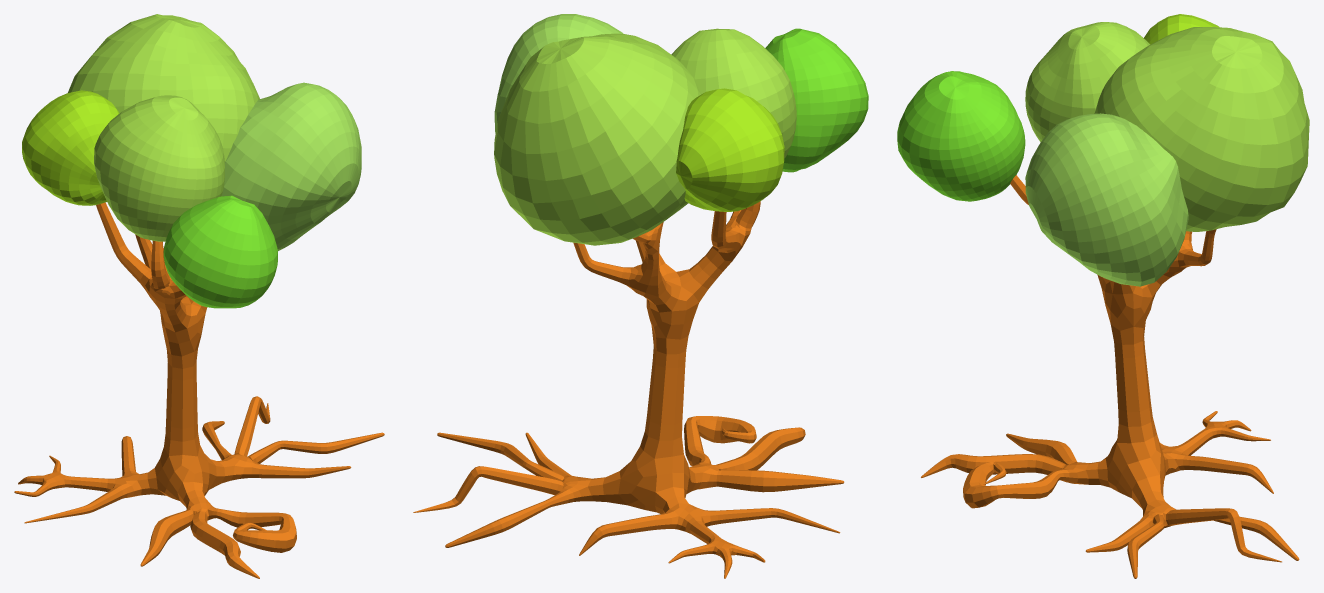
File: Arvore_viva_2_.fbx
The picture shows the model from 3 angles, left to right: view 1: azimuth 30°, elevation 25°; view 2: azimuth 150°, elevation 25°; view 3: azimuth 270°, elevation 25°; orthographic projection. The views are drawn at different scales.
Parts seen in each view (by area): view 1: Vert.001, Sphere.001, Sphere, Sphere.003, Sphere.002, Sphere.004; view 2: Sphere.003, Vert.001, Sphere.004, Sphere.002, Sphere, Sphere.001; view 3: Sphere.003, Vert.001, Sphere.001, Sphere.002, Sphere, Sphere.004.
Part boxes in pixels (x1,y1,x2,y2): Vert.001: (14, 202, 384, 578); Sphere.001: (221, 82, 361, 250); Sphere: (94, 95, 224, 241); Sphere.003: (68, 14, 259, 161); Sphere.002: (163, 195, 277, 308); Sphere.004: (22, 90, 119, 205); Sphere.003: (494, 33, 701, 245); Vert.001: (413, 201, 844, 578); Sphere.004: (676, 88, 784, 211); Sphere.002: (765, 28, 868, 172); Sphere: (671, 28, 796, 158); Sphere.001: (494, 14, 623, 133); Sphere.003: (1094, 27, 1309, 231); Vert.001: (921, 175, 1299, 578); Sphere.001: (1025, 113, 1188, 286); Sphere.002: (897, 71, 1025, 201); Sphere: (1025, 22, 1150, 142); Sphere.004: (1144, 14, 1219, 44).
Bounding box in the file's own units: 840 × 1005 × 784.
